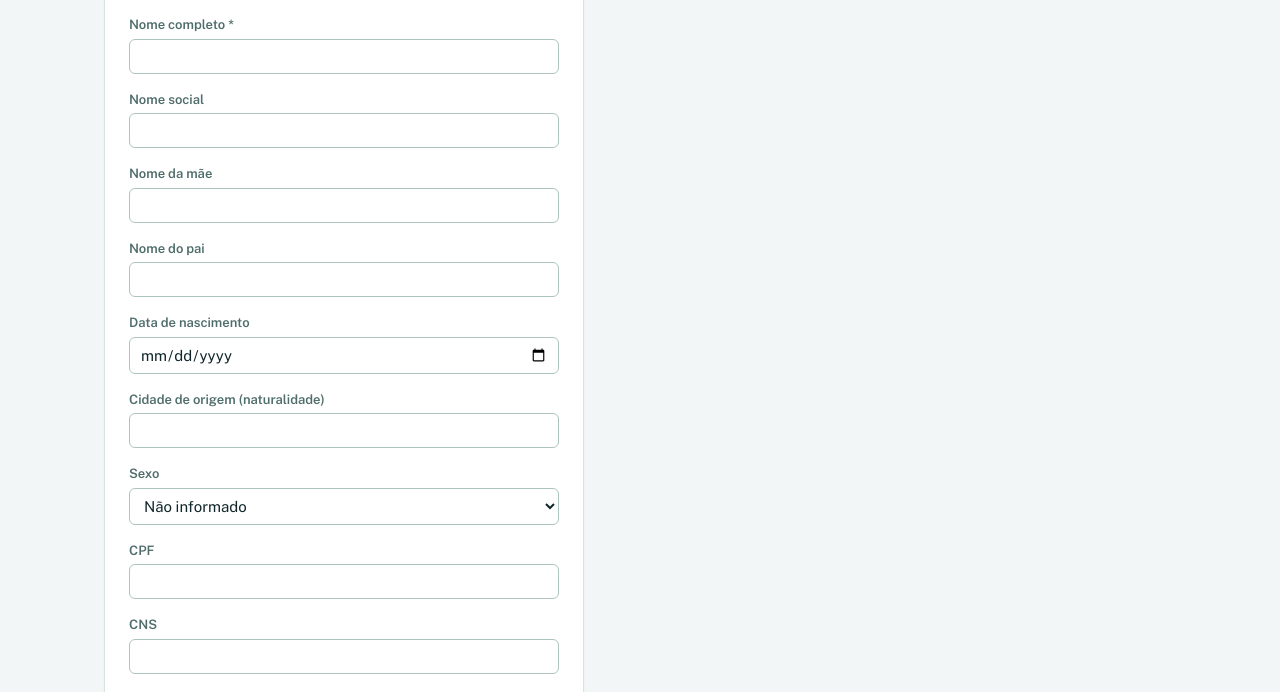
Test: PatientRegisterPage › 9. exibe erro genérico quando a API falha por motivo de servidor
Type "Maria Souza" into the field labelled "Nome completo *" at {"x": 344, "y": 56}, box x1=129 y1=38 x2=559 y2=74
(page scrolled)
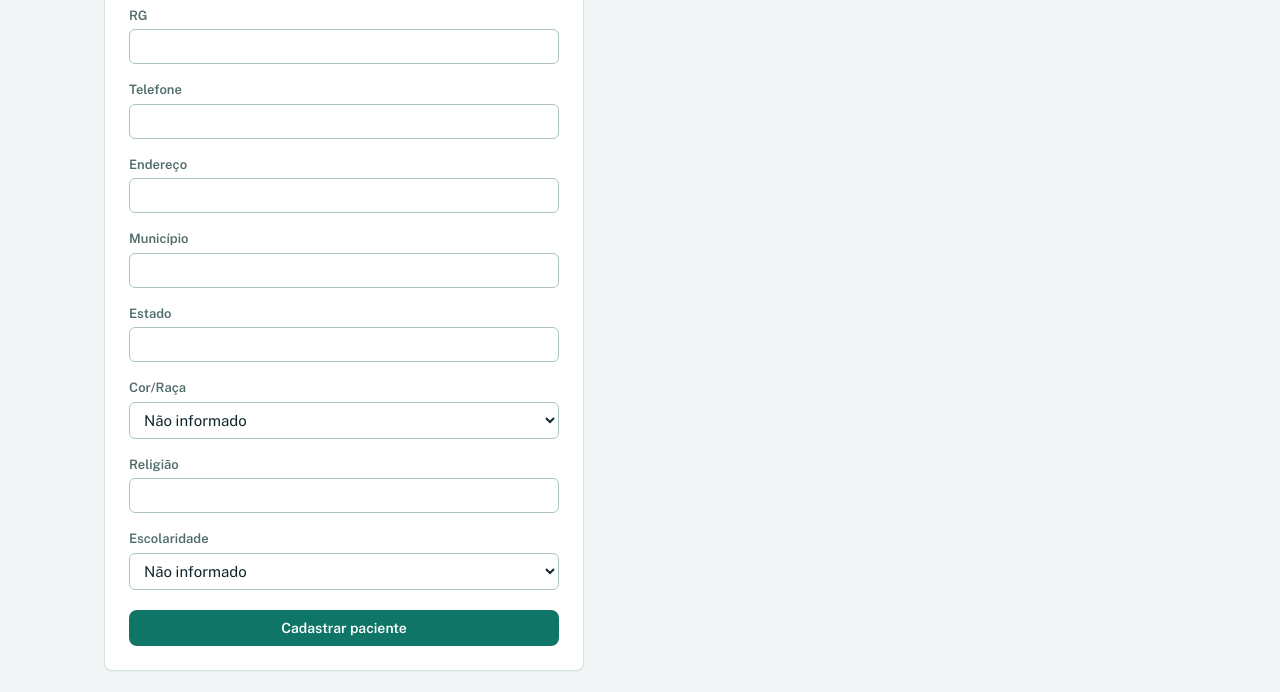
Click the button "Cadastrar paciente" at {"x": 344, "y": 628}, box x1=129 y1=610 x2=559 y2=646
(page scrolled)
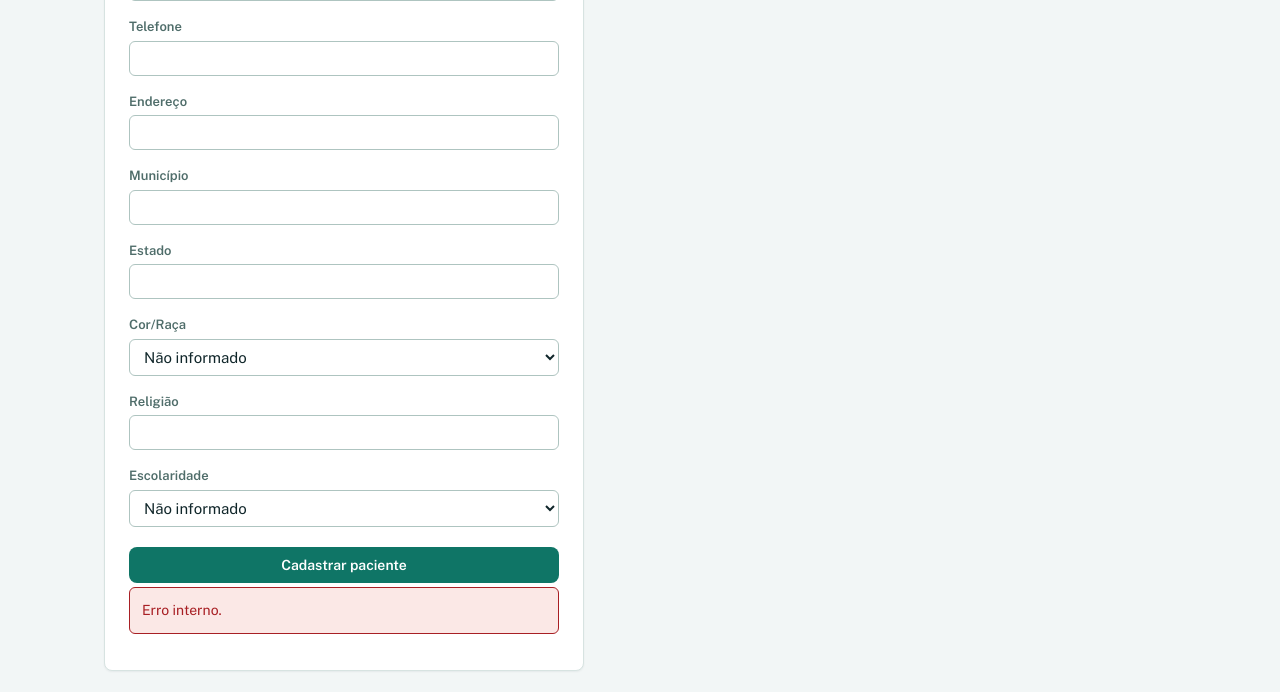
Expected: the text "Erro interno." is shown, x1=129 y1=586 x2=559 y2=634
